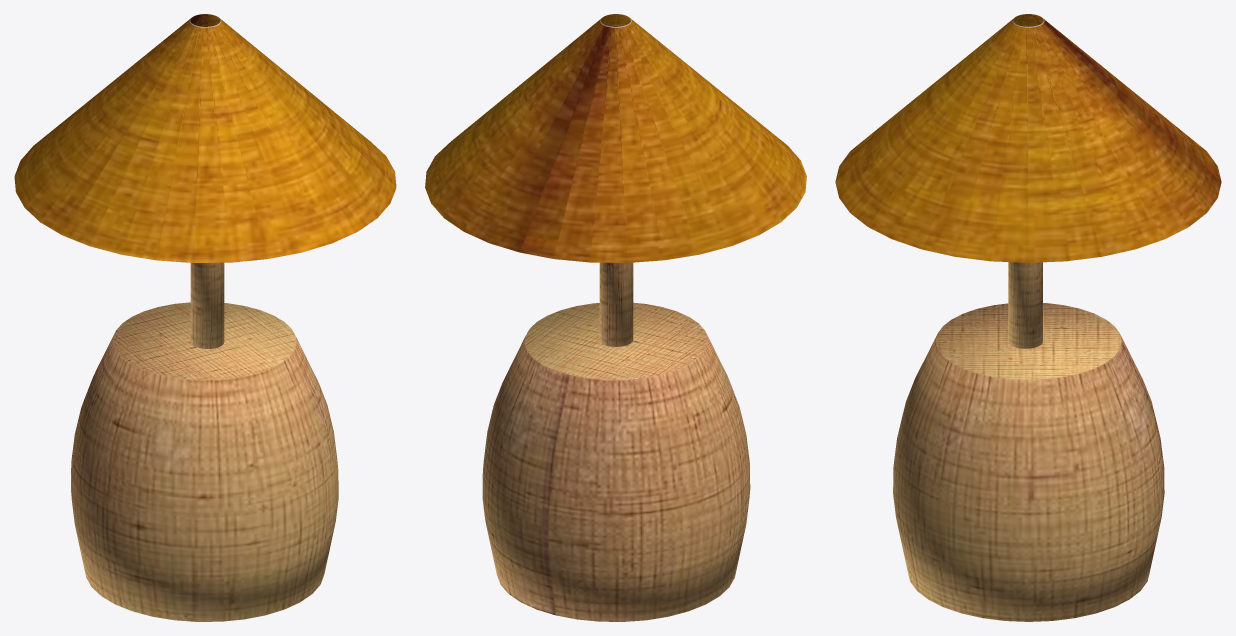
Rendered from table_lamp.glb.
3 views of the same model, side by side, from view 1: azimuth 30°, elevation 25°; view 2: azimuth 150°, elevation 25°; view 3: azimuth 270°, elevation 25° (orthographic).
Visible parts, largest first — view 1: Sphere.001; view 2: Sphere.001; view 3: Sphere.001.
Part boxes in pixels (x1,y1,x2,y2): Sphere.001: (14, 14, 396, 621); Sphere.001: (425, 14, 806, 621); Sphere.001: (835, 14, 1221, 621).
Size of the model in its own units: 1.81 by 2.88 by 1.83.
Materials: 4 (3 with a texture image).
